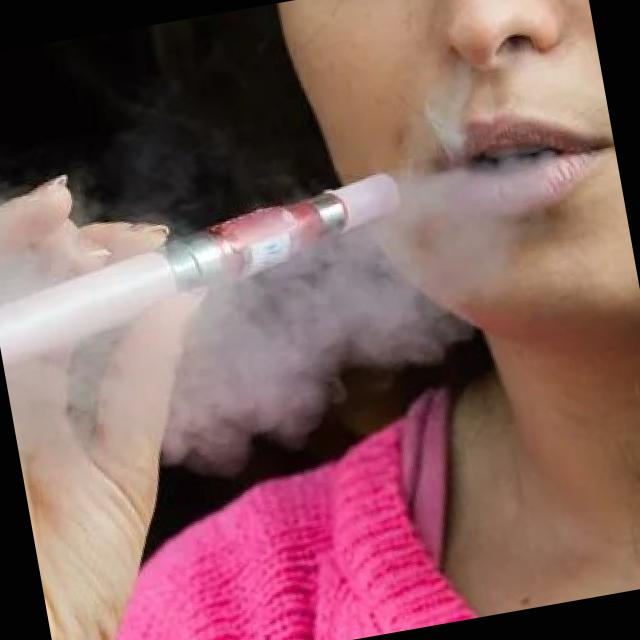cigarette: (0, 152, 423, 379)
